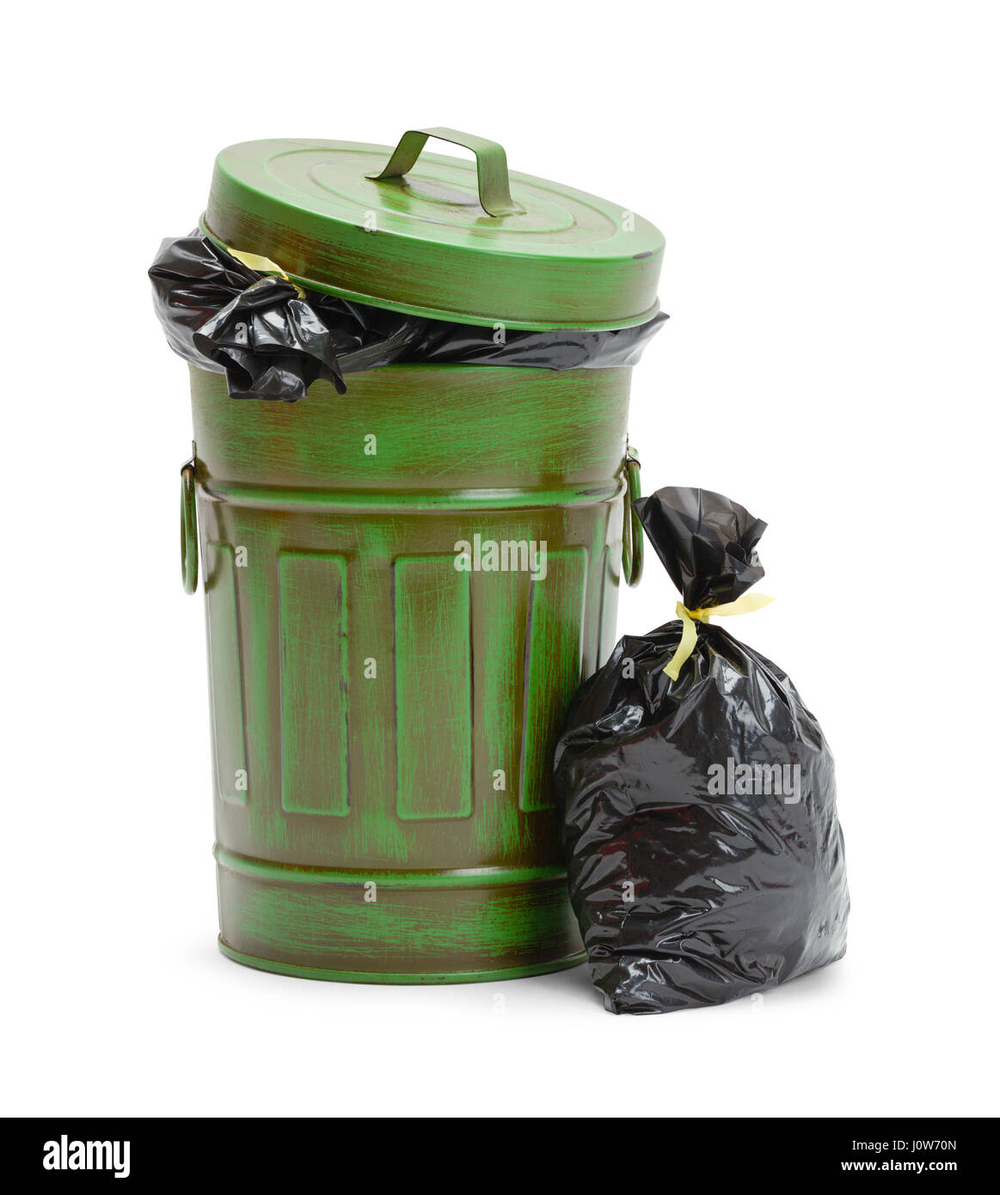partial: (160, 133, 670, 968)
